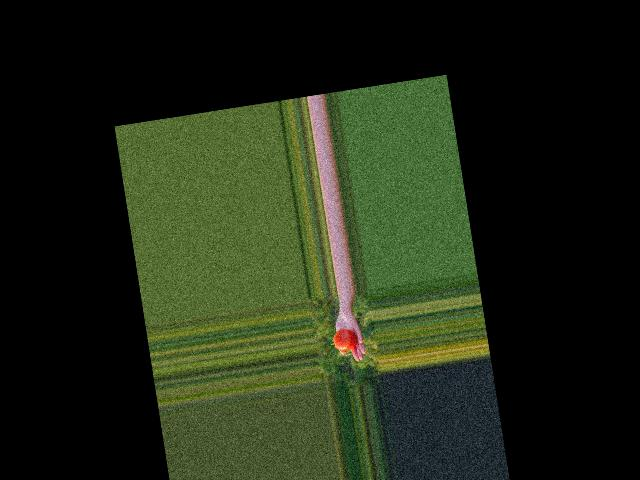tomato: (332, 327, 359, 352)
